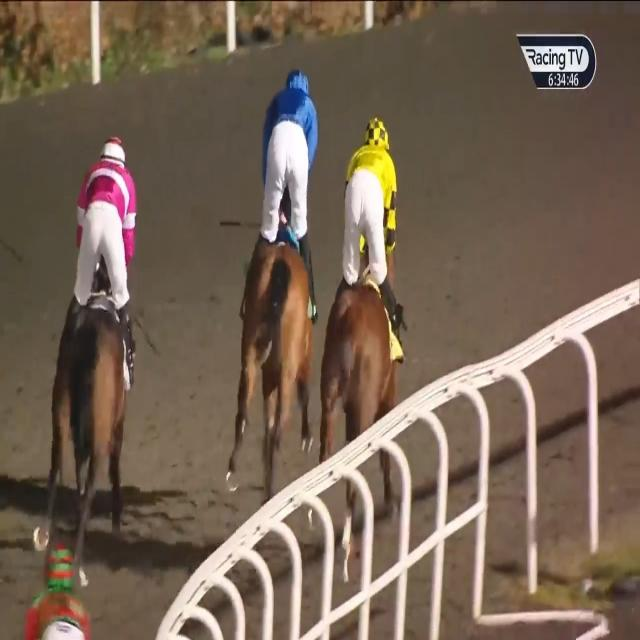horses-racing: (45, 131, 130, 546), (322, 101, 404, 525), (243, 56, 319, 482), (17, 549, 104, 640)
